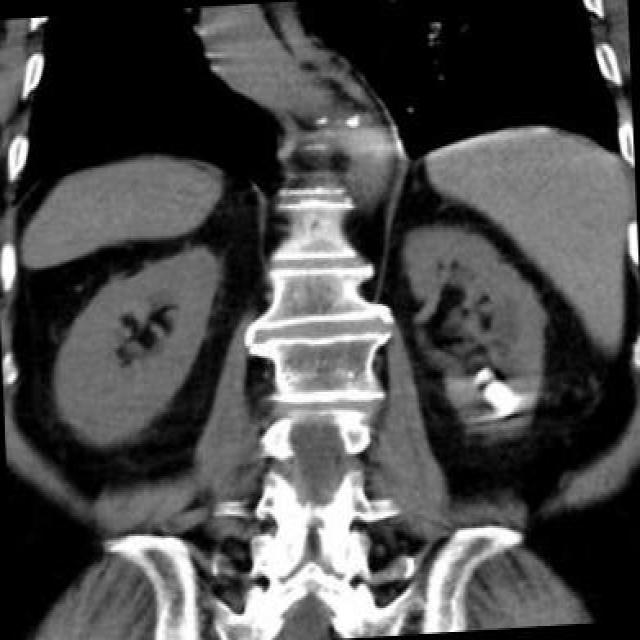Tas_Var: (477, 378, 526, 418), (462, 360, 503, 388)
